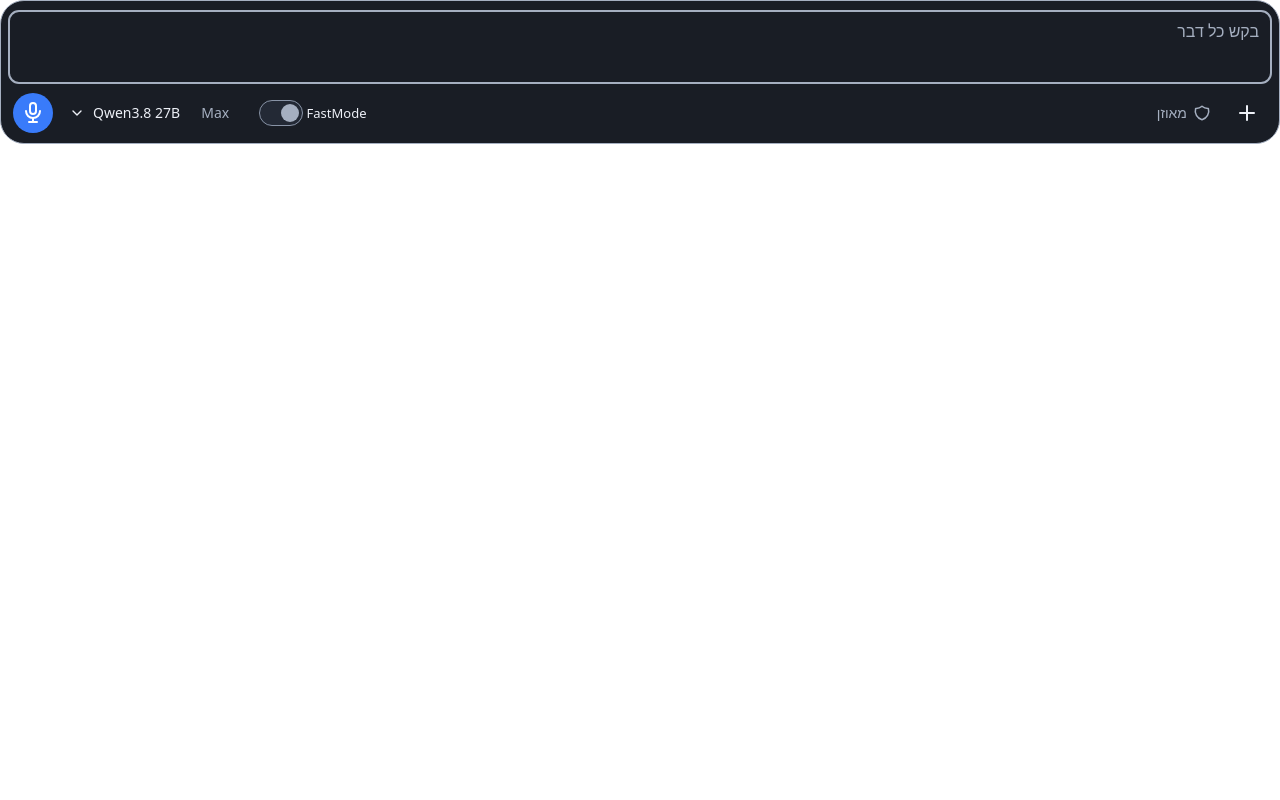
Test: local budget switch converts Max to supported XHigh and preserves a valid slider
Click the button with aria-label "בחירת מודל".
click(156, 113)  # box [61, 93, 251, 133]
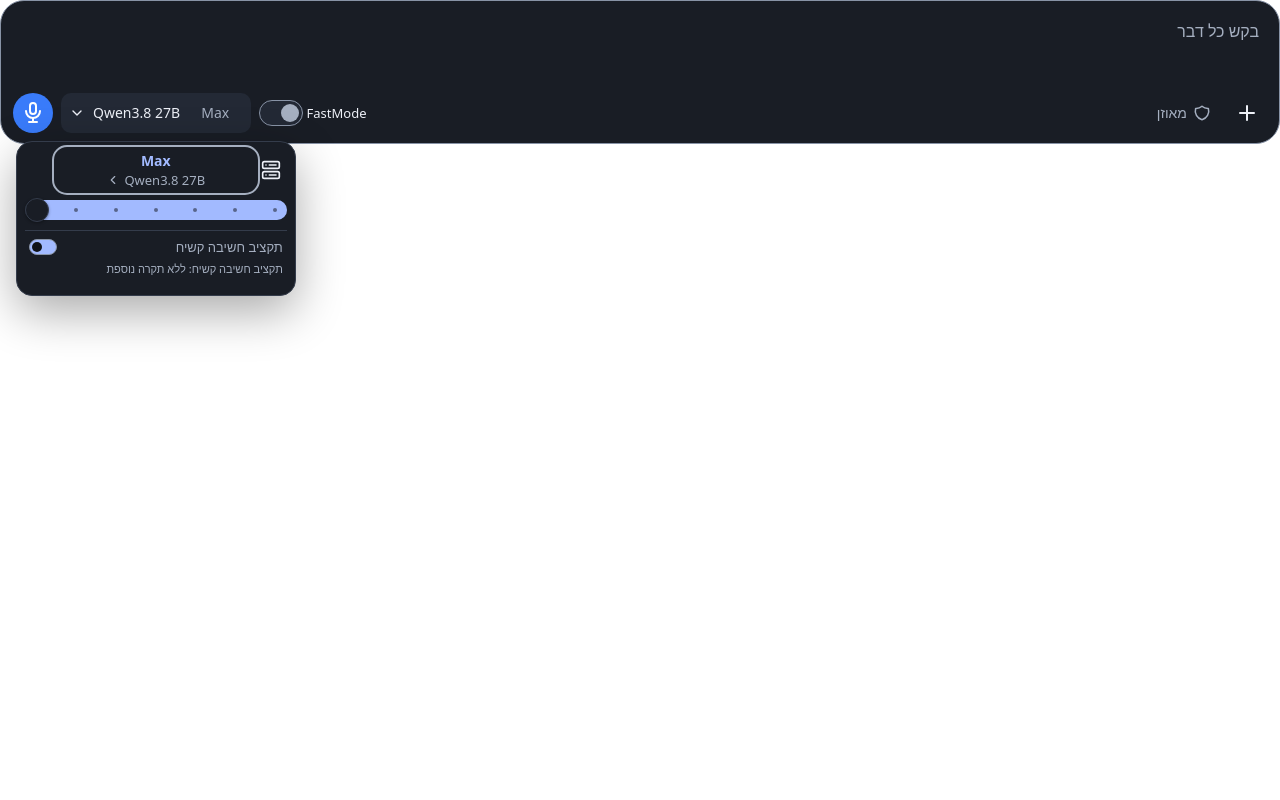
expect the text "תקציב חשיבה קשיח: ללא תקרה נוספת" is shown: met, box [106, 261, 283, 276]
Click the switch labelled "תקציב חשיבה קשיח".
click(229, 247)  # box [29, 235, 283, 259]
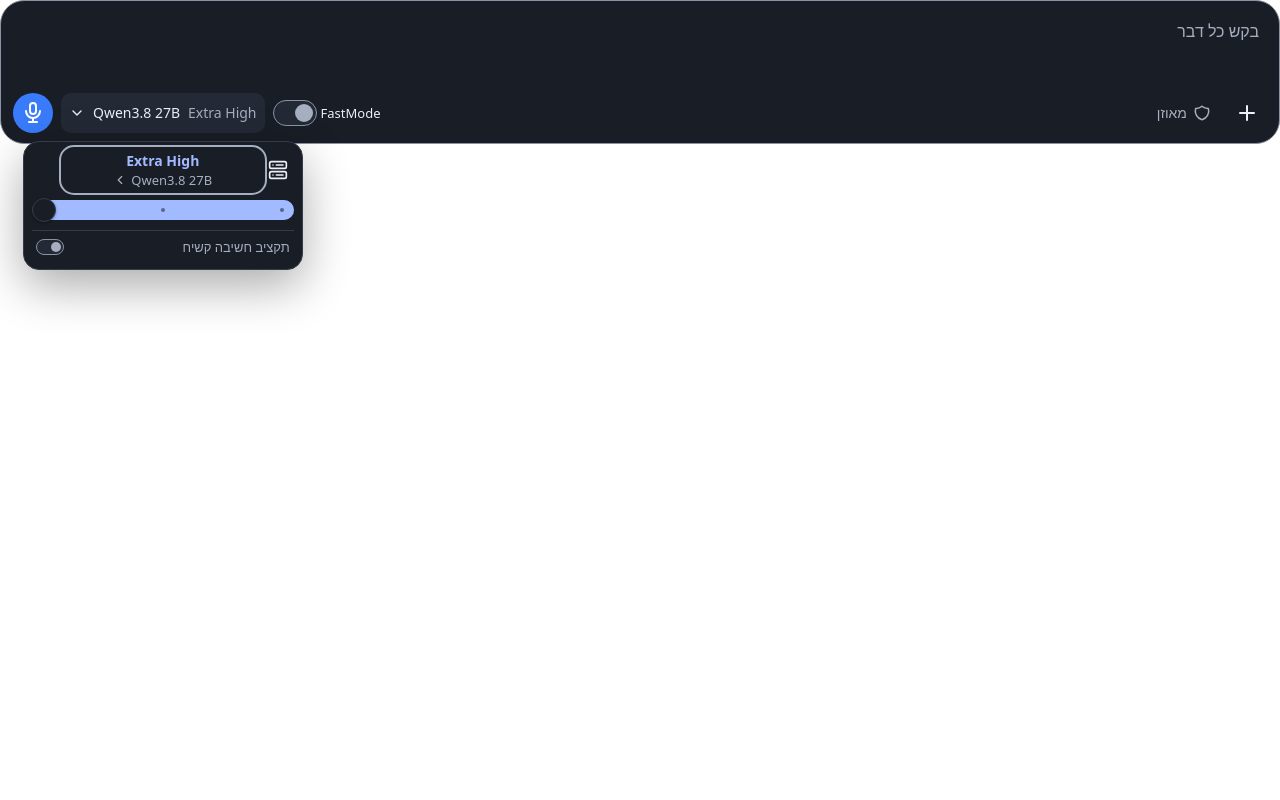
expect the text "תקציב חשיבה קשיח:" is gone: met
Click the switch labelled "תקציב חשיבה קשיח".
click(236, 247)  # box [36, 235, 290, 259]
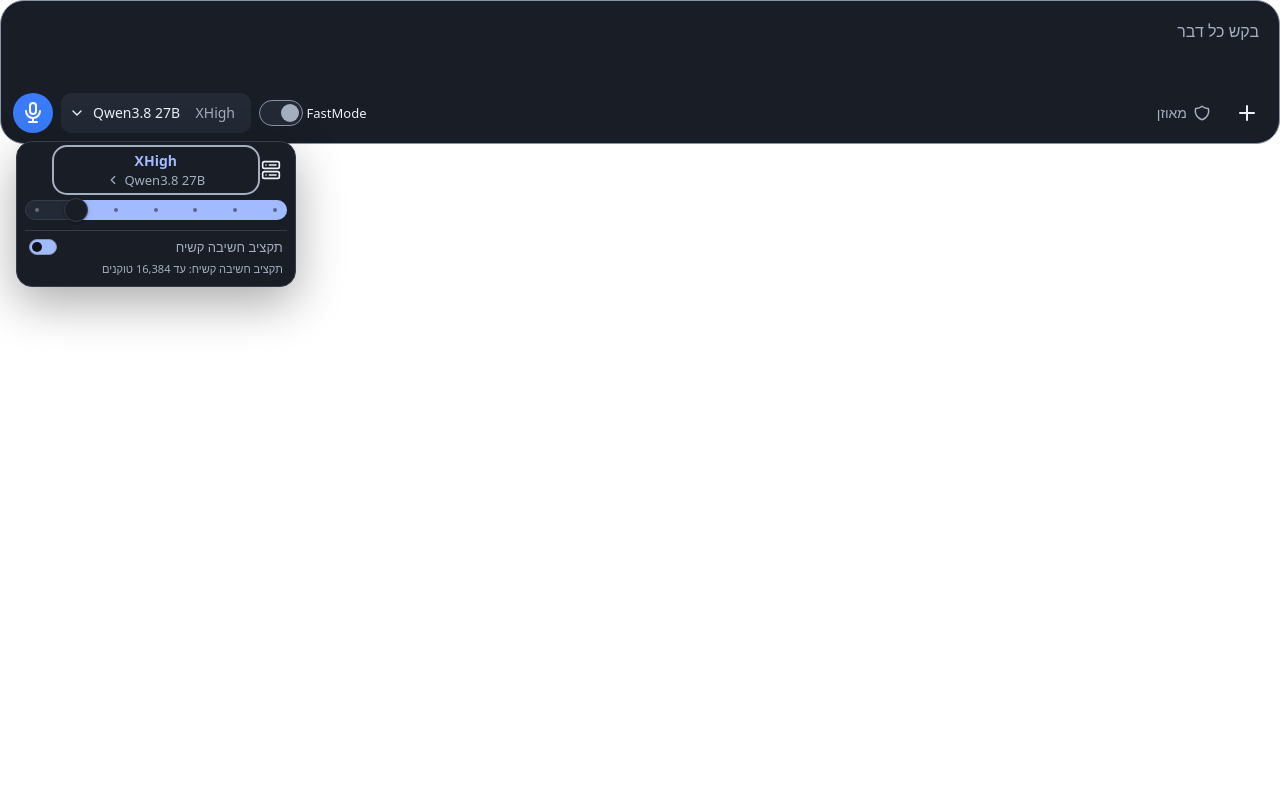
expect the text "תקציב חשיבה קשיח: עד 16,384 טוקנים" is shown: met, box [102, 261, 283, 276]
